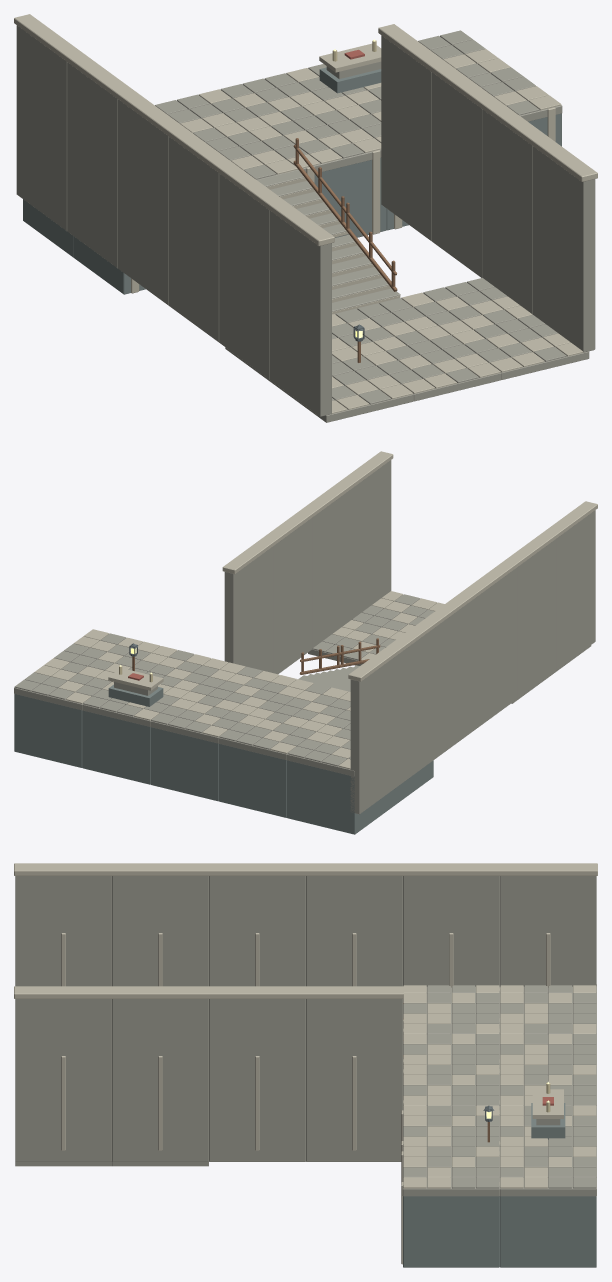
File: tv_43_01_tower_stairwell.glb
The picture shows the model from 3 angles, top to bottom: view 1: azimuth 30°, elevation 25°; view 2: azimuth 150°, elevation 25°; view 3: azimuth 270°, elevation 25°; orthographic projection. The views are drawn at different scales.
Visible parts, largest first — view 1: tower_shell_wall_0034, tower_shell_wall_0033, tower_shell_wall_0037, tower_shell_wall_0042, tower_shell_wall_0040, tower_shell_wall_0039, tower_shell_wall_0041, tower_shell_wall_0038, tower_shell_wall_0035, tower_shell_wall_0036, floor_stone_0004, floor_stone_0010 (+21 smaller); view 2: tower_shell_wall_0042, tower_shell_wall_0034, tower_shell_wall_0033, tower_shell_wall_0041, tower_shell_wall_0039, tower_shell_wall_0037, tower_shell_wall_0035, tower_shell_wall_0036, tower_shell_wall_0038, tower_shell_wall_0040, rampart_mass_0020, rampart_mass_0028 (+17 smaller); view 3: tower_shell_wall_0034, tower_shell_wall_0038, tower_shell_wall_0036, tower_shell_wall_0040, tower_shell_wall_0033, tower_shell_wall_0037, tower_shell_wall_0039, tower_shell_wall_0035, tower_shell_wall_0042, tower_shell_wall_0041, rampart_mass_0031, rampart_mass_0032 (+11 smaller).
Part boxes in pixels (left/top/right/bottom): tower_shell_wall_0034: left=530, top=135, right=597, bottom=352; tower_shell_wall_0033: left=267, top=199, right=334, bottom=416; tower_shell_wall_0037: left=166, top=125, right=232, bottom=342; tower_shell_wall_0042: left=14, top=14, right=79, bottom=230; tower_shell_wall_0040: left=378, top=24, right=444, bottom=241; tower_shell_wall_0039: left=115, top=88, right=181, bottom=305; tower_shell_wall_0041: left=64, top=51, right=130, bottom=268; tower_shell_wall_0038: left=429, top=61, right=495, bottom=277; tower_shell_wall_0035: left=216, top=162, right=282, bottom=379; tower_shell_wall_0036: left=479, top=98, right=545, bottom=314; floor_stone_0004: left=364, top=335, right=501, bottom=401; floor_stone_0010: left=452, top=315, right=589, bottom=379; tower_shell_wall_0042: left=348, top=645, right=400, bottom=814; tower_shell_wall_0034: left=341, top=451, right=393, bottom=619; tower_shell_wall_0033: left=546, top=501, right=597, bottom=669; tower_shell_wall_0041: left=389, top=617, right=440, bottom=785; tower_shell_wall_0039: left=428, top=587, right=479, bottom=756; tower_shell_wall_0037: left=468, top=559, right=518, bottom=727; tower_shell_wall_0035: left=507, top=530, right=557, bottom=698; tower_shell_wall_0036: left=302, top=480, right=353, bottom=648; tower_shell_wall_0038: left=263, top=509, right=313, bottom=674; tower_shell_wall_0040: left=222, top=538, right=275, bottom=672; rampart_mass_0020: left=287, top=754, right=394, bottom=834; rampart_mass_0028: left=150, top=721, right=218, bottom=801; tower_shell_wall_0034: left=14, top=986, right=112, bottom=1161; tower_shell_wall_0038: left=208, top=986, right=306, bottom=1161; tower_shell_wall_0036: left=111, top=986, right=209, bottom=1161; tower_shell_wall_0040: left=305, top=986, right=403, bottom=1161; tower_shell_wall_0033: left=14, top=863, right=112, bottom=986; tower_shell_wall_0037: left=208, top=863, right=306, bottom=986; tower_shell_wall_0039: left=305, top=863, right=403, bottom=986; tower_shell_wall_0035: left=111, top=863, right=209, bottom=986; tower_shell_wall_0042: left=499, top=863, right=597, bottom=987; tower_shell_wall_0041: left=402, top=863, right=500, bottom=987; rampart_mass_0031: left=401, top=1148, right=499, bottom=1267; rampart_mass_0032: left=499, top=1148, right=596, bottom=1267.
Size of the model in its own units: 20.38 by 8.92 by 24.1.
